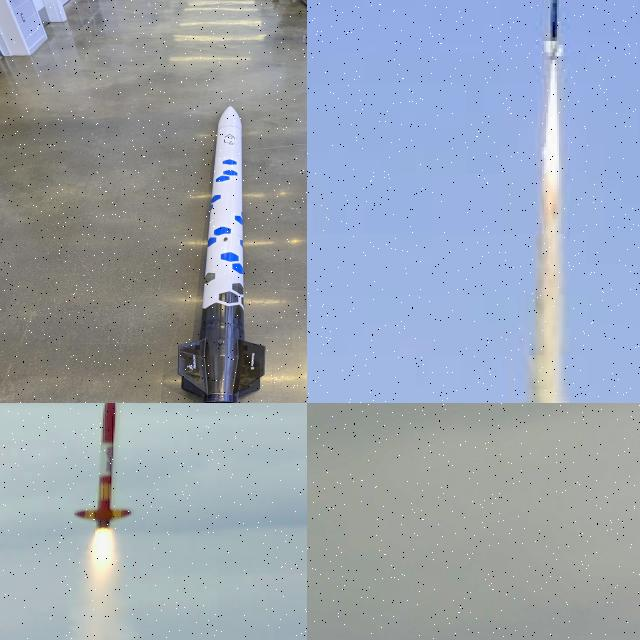Rocket: (178, 105, 266, 403), (72, 403, 131, 528), (540, 0, 567, 64)
